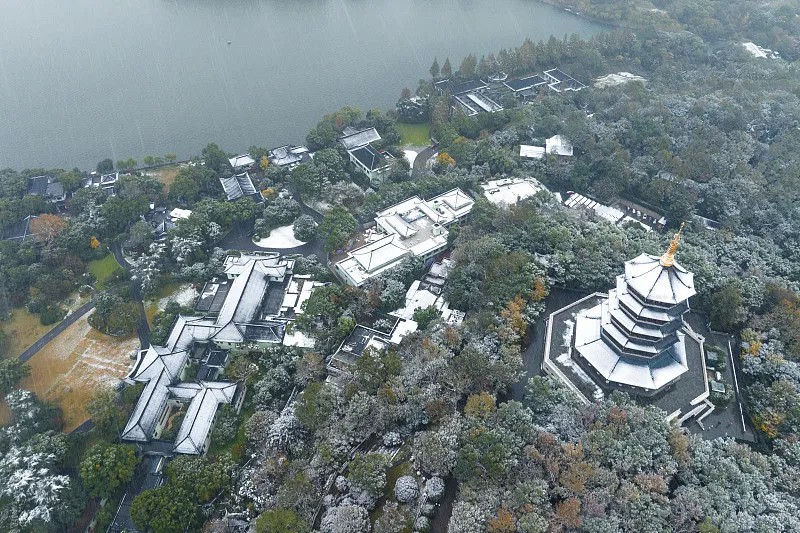Leifeng: (569, 221, 699, 400)
